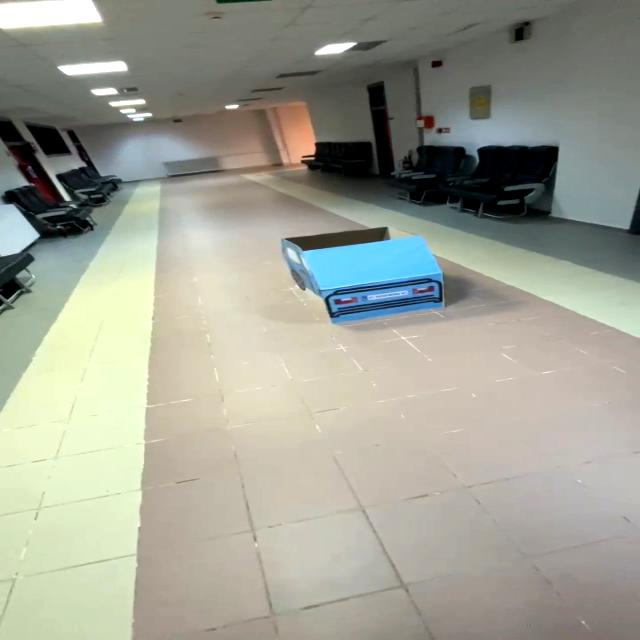blue_car: (242, 221, 489, 333)
